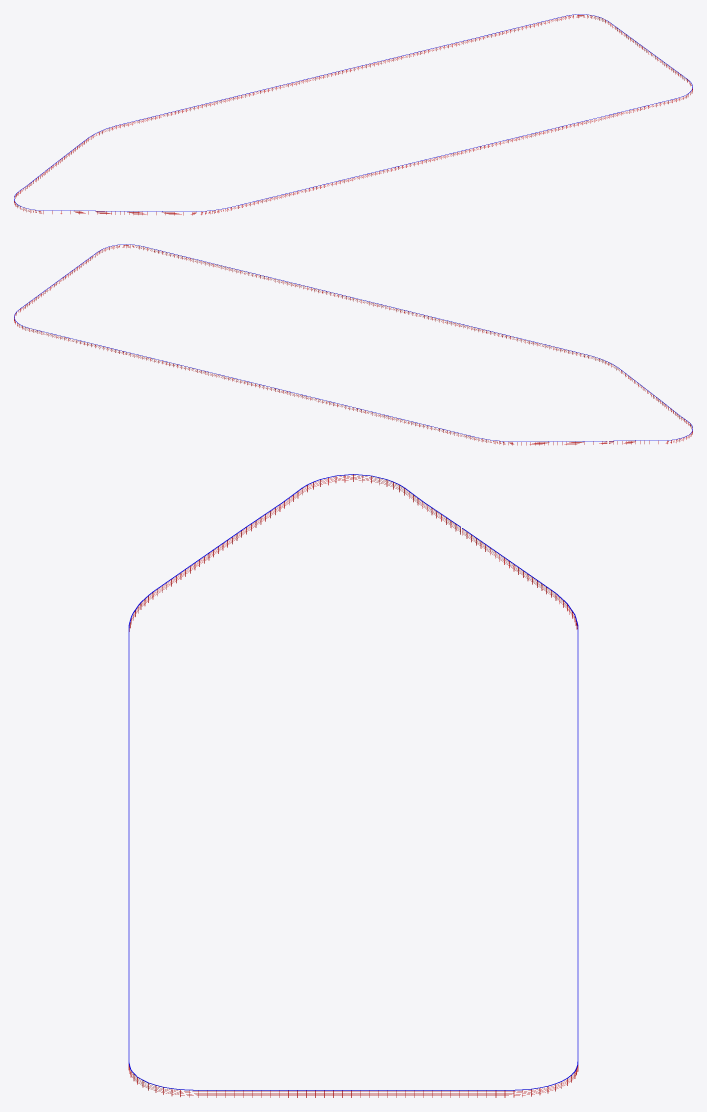
Rendered from Fence.fbx.
3 views of the same model, one above another, from view 1: azimuth 30°, elevation 25°; view 2: azimuth 150°, elevation 25°; view 3: azimuth 270°, elevation 25° (orthographic). The views are drawn at different scales.
Visible parts, largest first — view 1: Fence; view 2: Fence; view 3: Fence.
Boxes of the visible parts, <box> form: Fence: <box>14,14,692,215</box>; Fence: <box>14,244,692,445</box>; Fence: <box>128,474,578,1097</box>.
Bounding box in the file's own units: 16196 × 96.76 × 4996.
